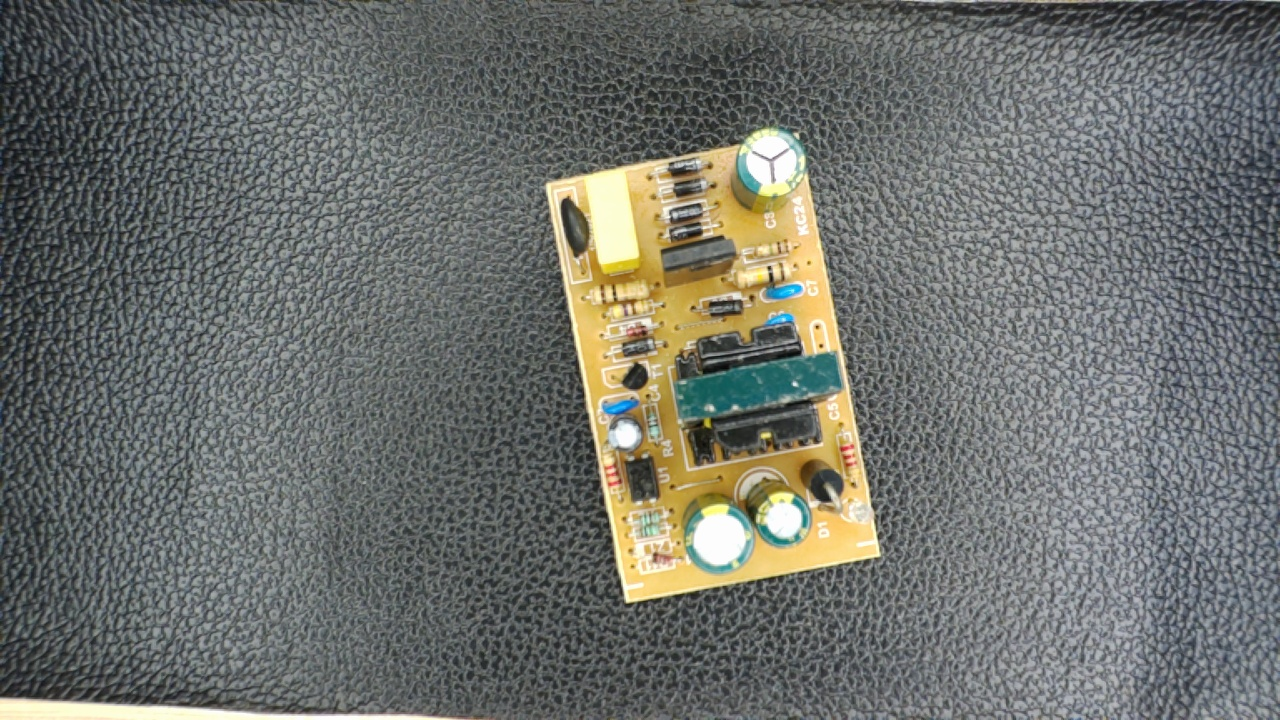fuse: (555, 189, 591, 270)
hv_capacitor: (728, 129, 810, 216)
optocoupler: (621, 444, 662, 512)
